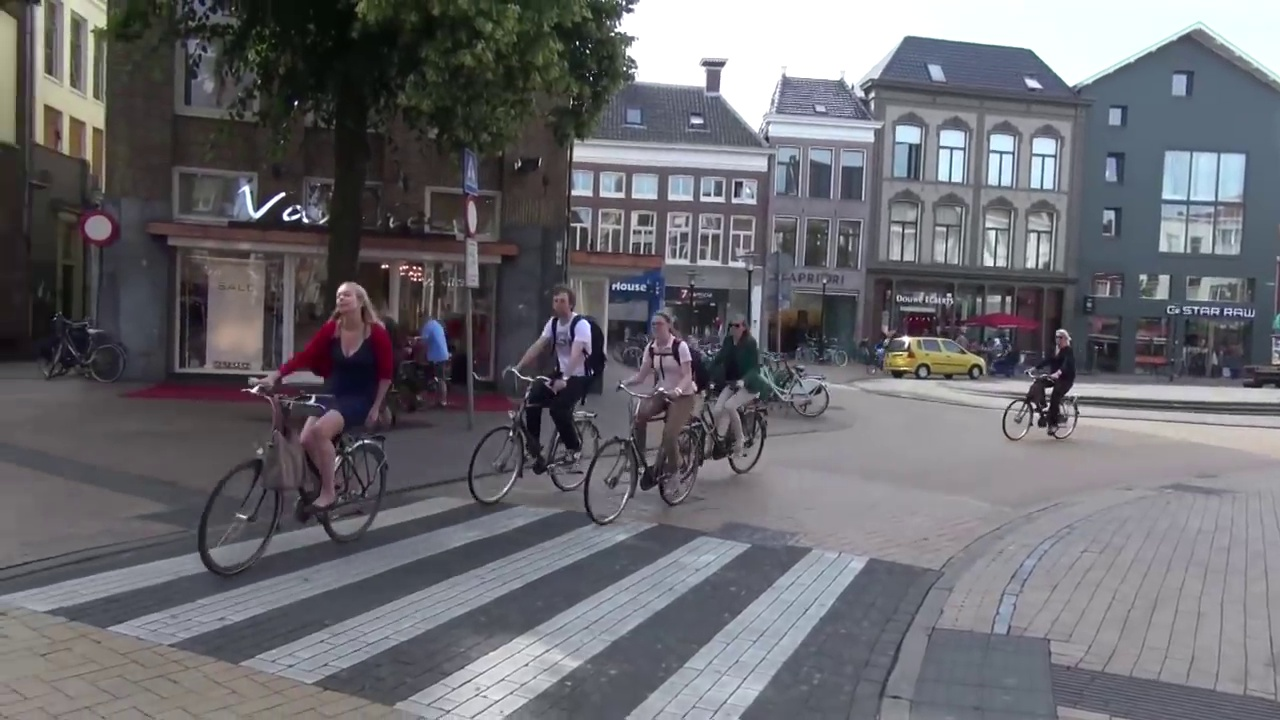cyclist_front: (603, 303, 705, 541), (692, 300, 765, 485)
cyclist_side: (192, 261, 395, 564), (478, 259, 593, 501), (1000, 317, 1096, 455)
